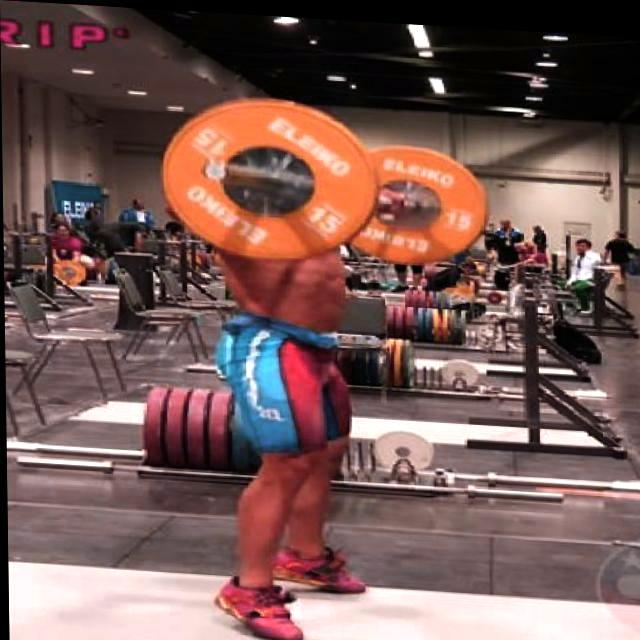barbell: (143, 85, 385, 272)
